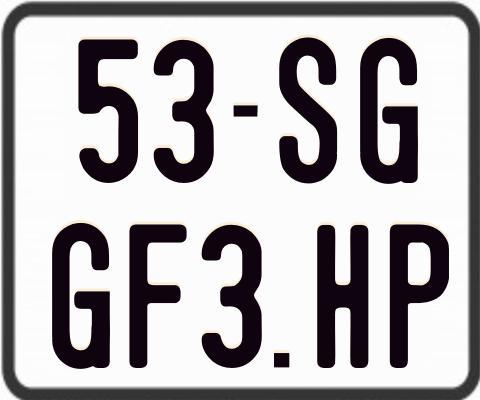3: (154, 37, 216, 184), (200, 225, 260, 372)
5: (78, 38, 139, 182)
F: (127, 223, 190, 368)
G: (360, 37, 422, 189), (52, 223, 112, 373)
H: (314, 222, 371, 368)
P: (387, 224, 449, 369)
S: (278, 36, 341, 186)
